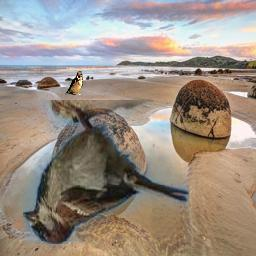Sparrow: (23, 100, 189, 244)
Swallow: (65, 71, 83, 95)
